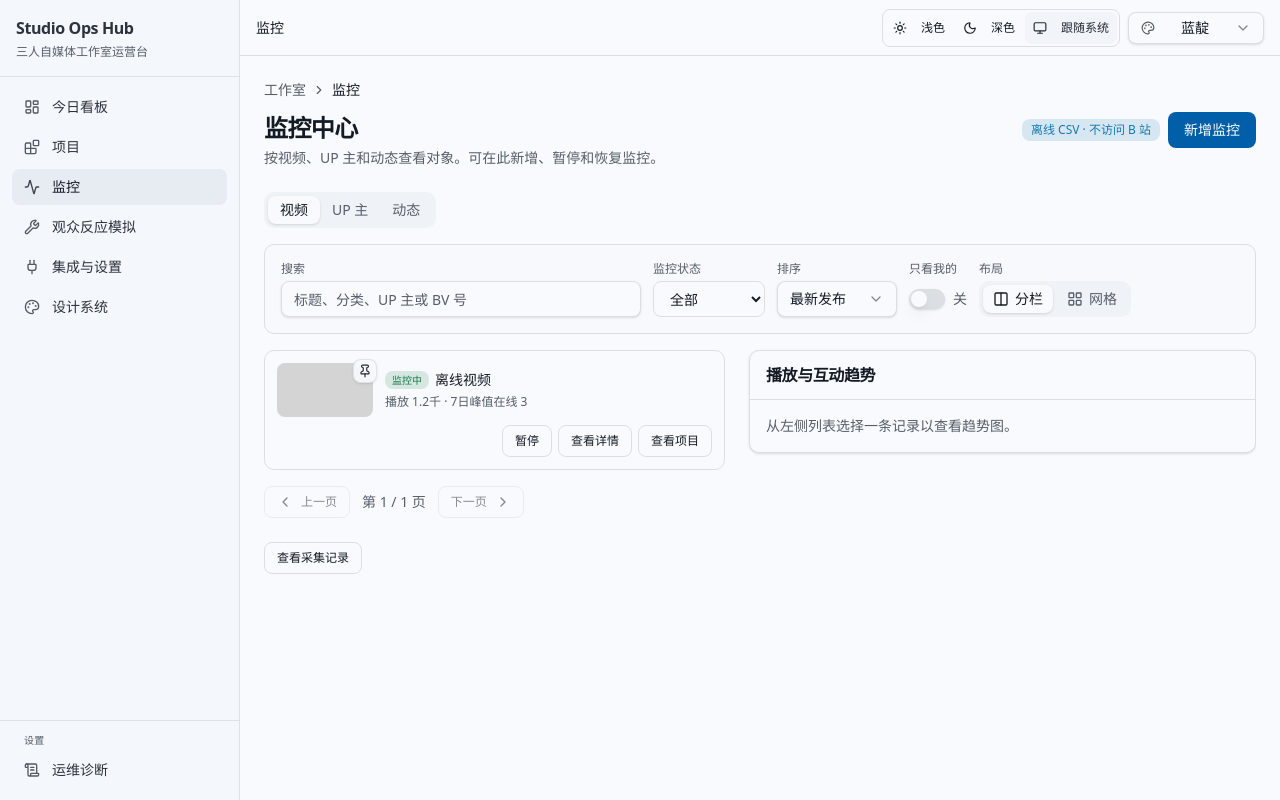
monitoring cards › pause failure stays on the old state and retry updates the card
The width and height of the screenshot is (1280, 800).
Check: the list item with test id "monitor-object-card" shows "监控中", box [392,373,422,387]
What coordinates should you click on to do the following:
click the button "暂停"
I would click on:
 (527, 441)
Its box is [502,425,552,457].
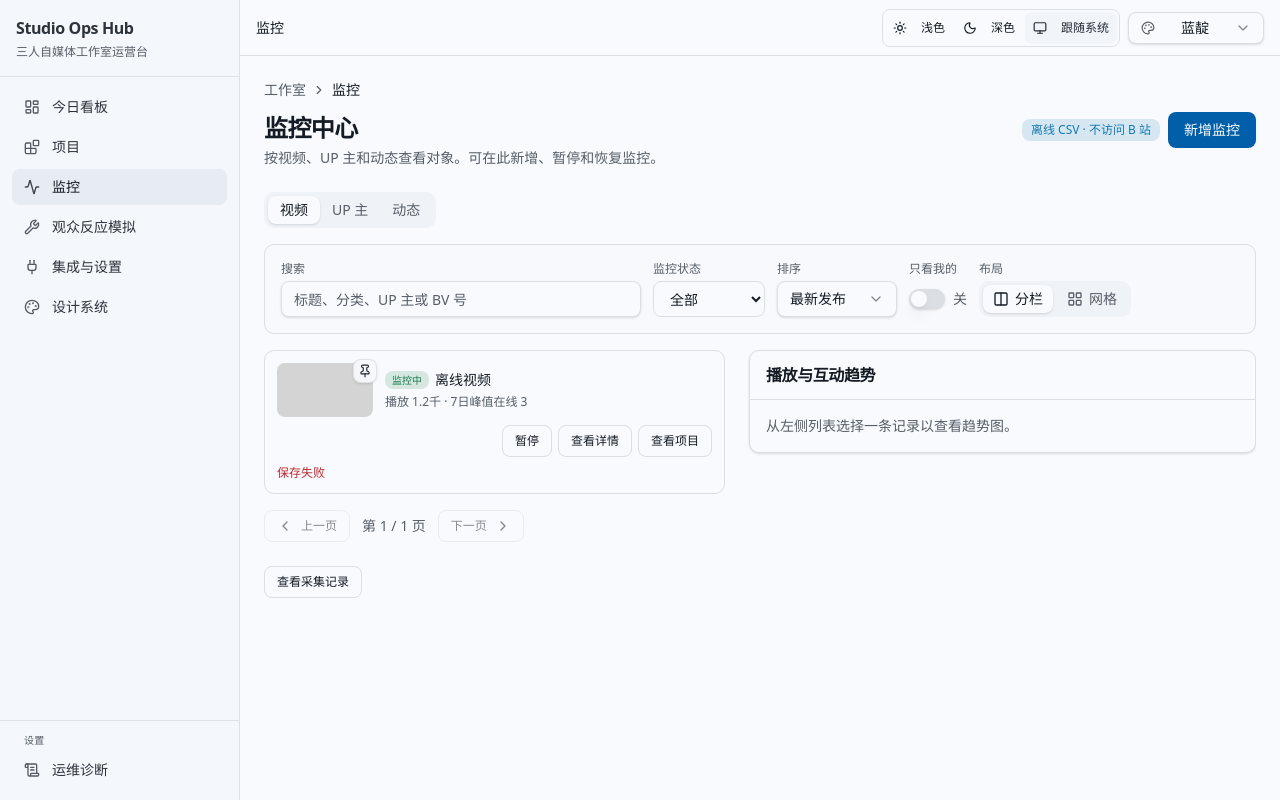
Check: the list item with test id "monitor-object-card" shows "监控中", box [392,373,422,387]
Check: the message "保存失败" is shown, box [277,464,325,481]
What coordinates should you click on to do the following:
click the button "暂停"
I would click on:
 (527, 441)
Its box is [502,425,552,457].
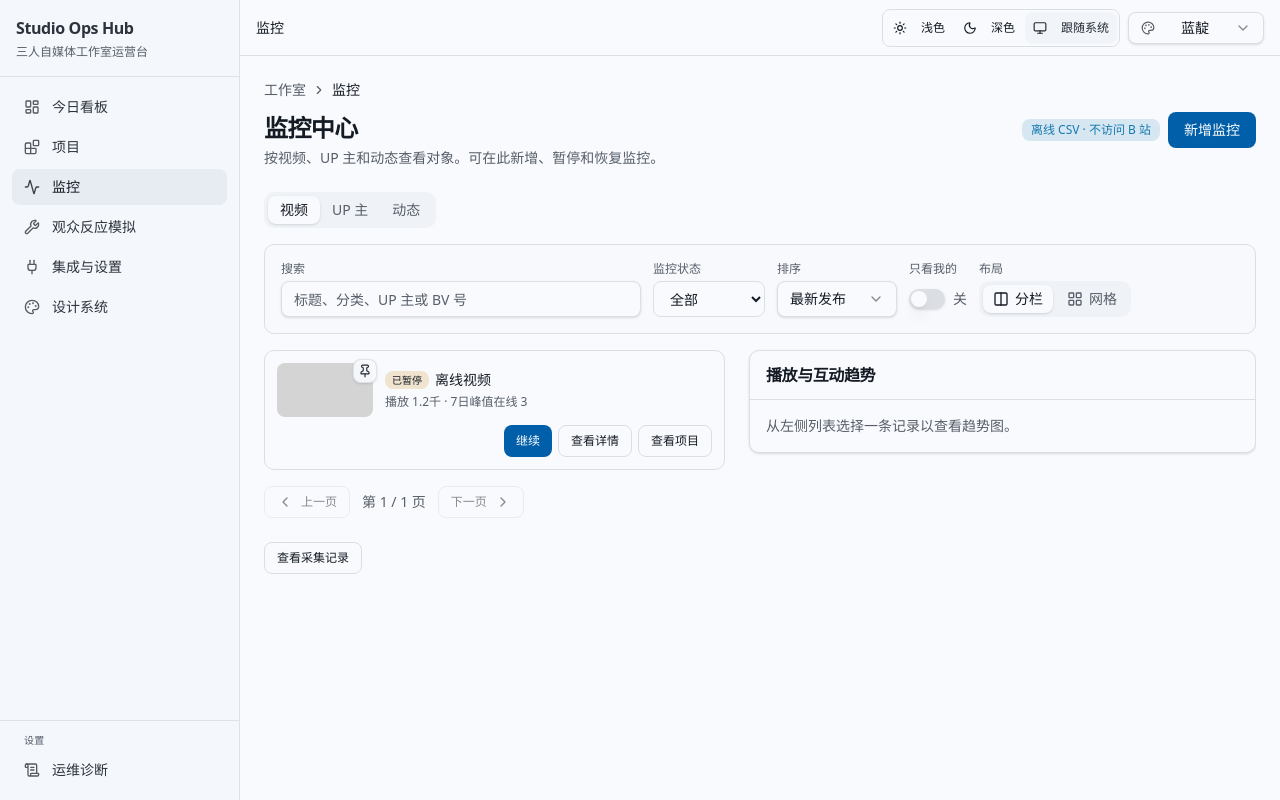
Check: the text "已暂停" is shown, box [385,371,429,389]
